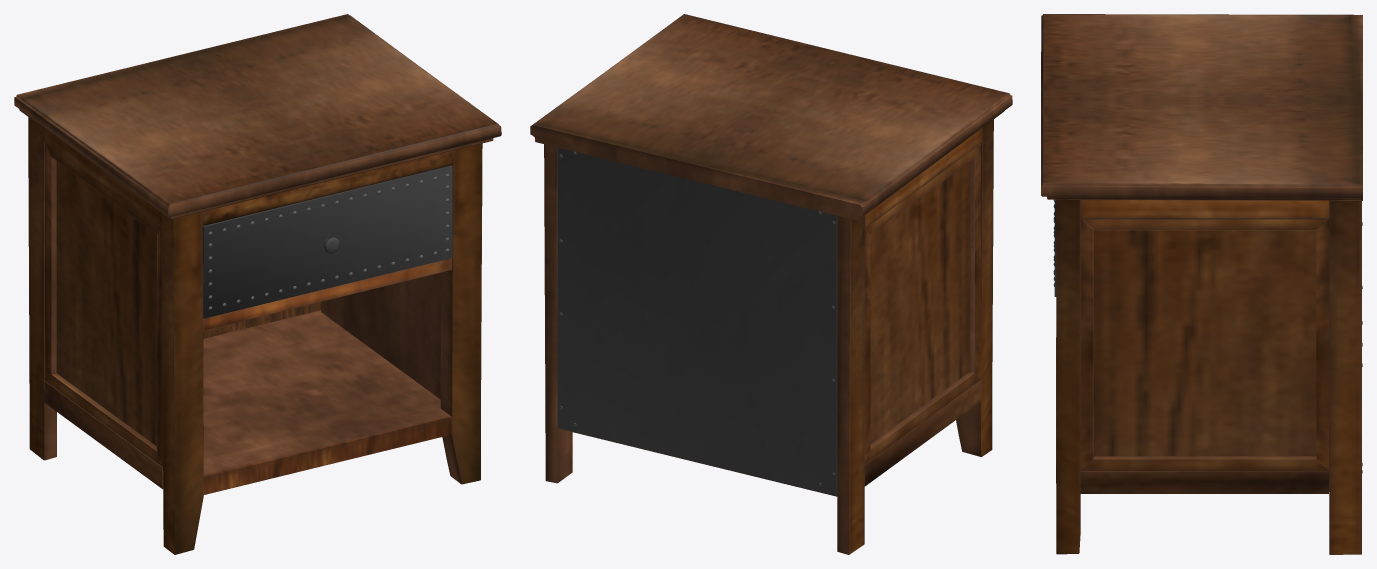
The picture shows the model from 3 angles, left to right: view 1: azimuth 30°, elevation 25°; view 2: azimuth 150°, elevation 25°; view 3: azimuth 270°, elevation 25°; orthographic projection. The views are drawn at different scales.
Visible parts, largest first — view 1: visual_RootNode; view 2: visual_RootNode; view 3: visual_RootNode.
Boxes of the visible parts, x1,y1,x2,y2 form: visual_RootNode: [14, 14, 501, 554]; visual_RootNode: [530, 14, 1012, 554]; visual_RootNode: [1041, 14, 1362, 554].
Bounding box in the file's own units: 0.5857 × 0.4613 × 0.5968.
1 material, 1 textured.
